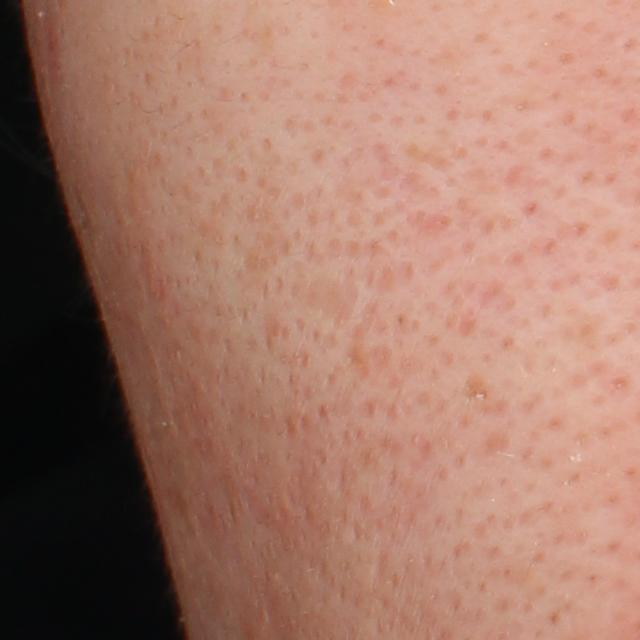atrophic_scar: (288, 267, 361, 328), (347, 301, 376, 341)
